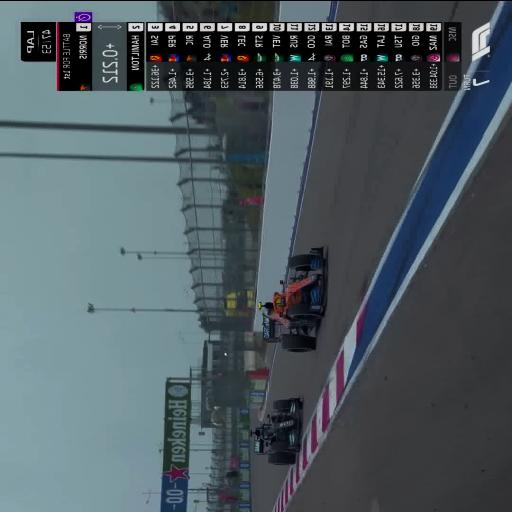f1_car: (258, 246, 325, 351), (250, 397, 302, 464)
